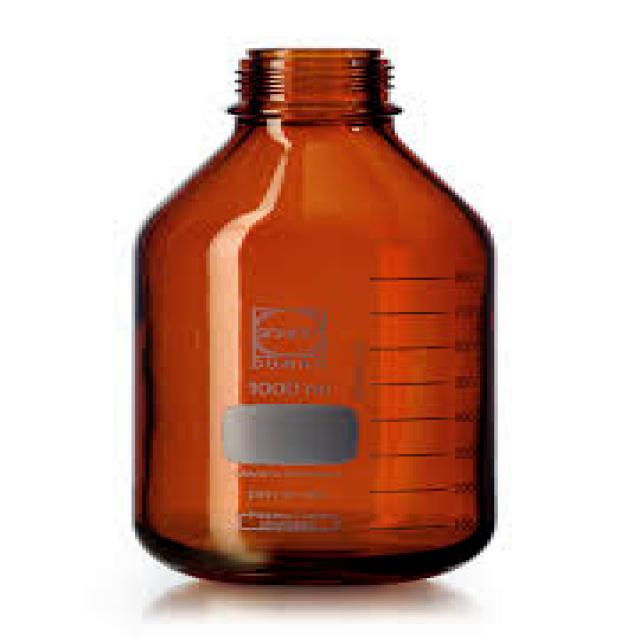Glass: (124, 41, 506, 587)
